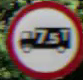Heavy Vehicles: (6, 4, 76, 68)
